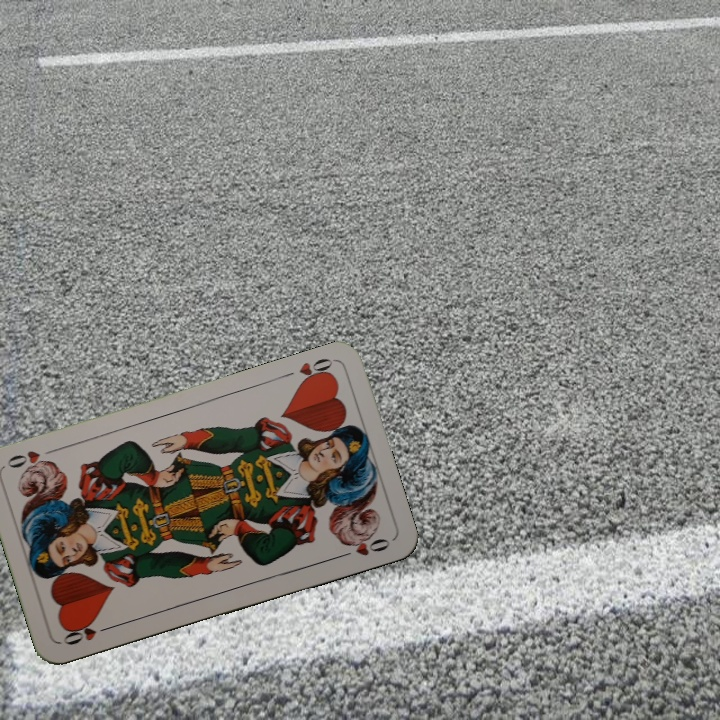HO: (279, 354, 336, 388), (59, 620, 116, 648)
